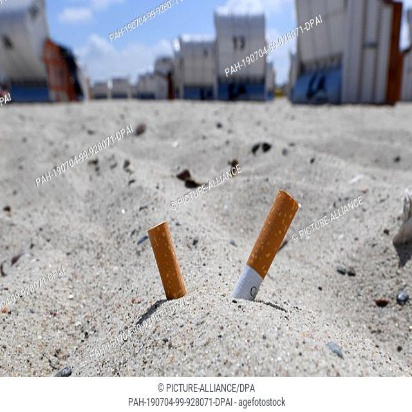cigarette: (232, 184, 303, 315), (144, 217, 191, 306)
